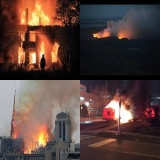fire: (17, 0, 50, 28), (118, 101, 133, 123), (36, 125, 48, 147), (51, 40, 59, 63), (92, 29, 110, 39), (17, 45, 25, 64), (39, 41, 45, 59), (22, 147, 31, 155), (31, 50, 36, 64), (117, 35, 123, 40)
